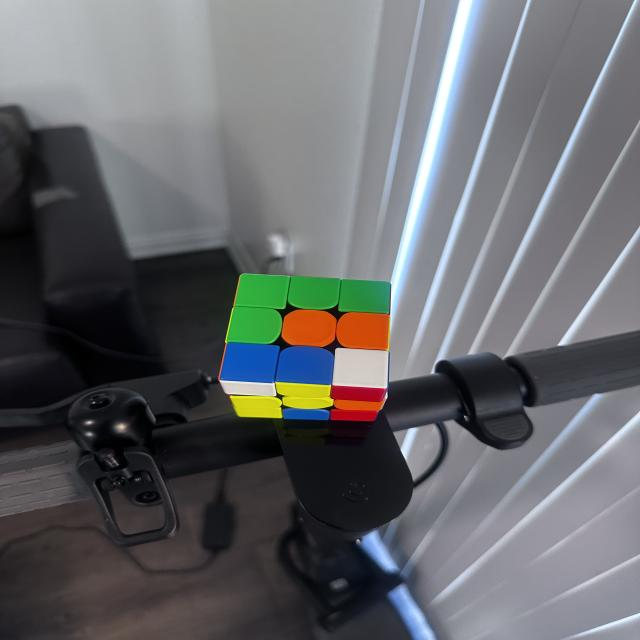sticker: (280, 309, 338, 349), (225, 306, 283, 346), (234, 272, 292, 311), (335, 312, 390, 352), (337, 278, 391, 316), (225, 342, 276, 382), (286, 275, 341, 312), (338, 347, 383, 385), (284, 348, 328, 382)
